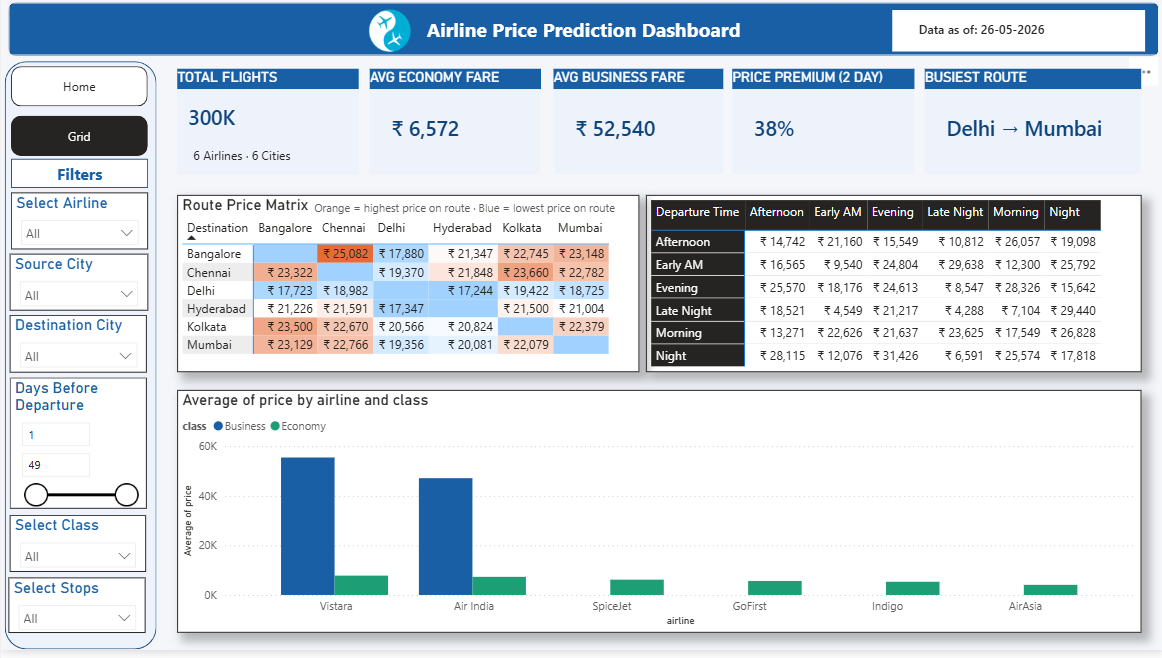

What the dashboard file says about the page in this screenshot:
{"tool":"powerbi","page":{"name":"Grid","canvas":[1280,720],"ordinal":1},"visuals":[{"type":"shape","box":[3.7,72.1,166.7,645.6],"z":0},{"type":"pivotTable","fields":{"Rows":["Clean_Dataset.departure_time"],"Columns":["Clean_Dataset.arrival_time"],"Values":["Avg(Clean_Dataset.price)"]},"box":[707.8,220.2,543.6,194.1],"z":1000},{"type":"pivotTable","title":"Route Price Matrix","fields":{"Rows":["Clean_Dataset.destination_city"],"Values":["Avg(Clean_Dataset.price)"],"Columns":["Clean_Dataset.source_city"]},"box":[192.8,220.2,507.5,194.1],"z":2000},{"type":"clusteredColumnChart","fields":{"Category":["Clean_Dataset.airline"],"Series":["Clean_Dataset.class"],"Y":["Avg(Clean_Dataset.price)"]},"box":[192.8,434.1,1058.6,266.2],"z":3000},{"type":"slicer","title":"Select Airline","fields":{"Values":["Clean_Dataset.airline"]},"box":[11.2,216.4,150.5,62.2],"z":4000},{"type":"slicer","title":"Select Class","fields":{"Values":["Clean_Dataset.class"]},"box":[10,571,149.3,62.2],"z":5000},{"type":"slicer","title":"Source City","fields":{"Values":["Clean_Dataset.source_city"]},"box":[10,283.6,151.8,62.2],"z":6000},{"type":"slicer","title":"Destination City","fields":{"Values":["Clean_Dataset.destination_city"]},"box":[10,350.8,150.5,63.4],"z":7000},{"type":"slicer","title":"Days Before Departure","fields":{"Values":["Clean_Dataset.days_left"]},"box":[10,420.5,150.5,144.3],"z":8000},{"type":"slicer","title":"Select Stops","fields":{"Values":["Clean_Dataset.stops"]},"box":[8.7,639.4,150.5,61],"z":9000},{"type":"shape","box":[11.2,180.4,150.5,32],"z":10000},{"type":"shape","box":[8.6,8.6,1262.9,58.6],"z":11000},{"type":"pageNavigator","box":[11.2,78.4,150.5,98.3],"z":12000},{"type":"textbox","box":[338.7,219.6,362,28.2],"z":13000},{"type":"cardVisual","title":"TOTAL FLIGHTS","fields":{"Data":["All Measures.Total Flights"]},"box":[192.8,80.9,199,115.7],"z":14000},{"type":"textbox","box":[201.5,161.7,125.6,29.9],"z":15000},{"type":"cardVisual","title":"AVG ECONOMY FARE","fields":{"Data":["All Measures.Avg Economy Fare"]},"box":[404.3,80.9,187.8,115.7],"z":16000},{"type":"cardVisual","title":"AVG BUSINESS FARE","fields":{"Data":["All Measures.Avg Business Fare"]},"box":[607.1,80.9,186.6,115.7],"z":17000},{"type":"cardVisual","title":"PRICE PREMIUM (2 DAY)","fields":{"Data":["All Measures.Last Minute Premium"]},"box":[802.4,80.9,200.3,115.7],"z":18000},{"type":"cardVisual","title":"BUSIEST ROUTE","fields":{"Data":["All Measures.Busiest Route"]},"box":[1013.8,80.9,237.6,115.7],"z":19000},{"type":"cardVisual","fields":{"Data":["All Measures.Last Refresh"]},"box":[977.9,16,277.3,45.4],"z":20000},{"type":"image","box":[391.4,14.7,71.2,47.9],"z":21000}]}

Visuals, with their boxes in screenshot pixels (x1, y1, x2, y2), scaled from the page's 1280x720 canvas onto the 1162x658 screenshot:
shape: [3, 66, 155, 656]
pivotTable - Clean_Dataset.departure_time x Clean_Dataset.arrival_time: [643, 201, 1136, 379]
"Route Price Matrix" pivotTable: [175, 201, 636, 379]
clusteredColumnChart - Clean_Dataset.airline x Clean_Dataset.class: [175, 397, 1136, 640]
"Select Airline" slicer: [10, 198, 147, 255]
"Select Class" slicer: [9, 522, 145, 579]
"Source City" slicer: [9, 259, 147, 316]
"Destination City" slicer: [9, 321, 146, 379]
"Days Before Departure" slicer: [9, 384, 146, 516]
"Select Stops" slicer: [8, 584, 145, 640]
shape: [10, 165, 147, 194]
shape: [8, 8, 1154, 61]
pageNavigator: [10, 72, 147, 161]
textbox: [307, 201, 636, 226]
"TOTAL FLIGHTS" cardVisual: [175, 74, 356, 180]
textbox: [183, 148, 297, 175]
"AVG ECONOMY FARE" cardVisual: [367, 74, 538, 180]
"AVG BUSINESS FARE" cardVisual: [551, 74, 721, 180]
"PRICE PREMIUM (2 DAY)" cardVisual: [728, 74, 910, 180]
"BUSIEST ROUTE" cardVisual: [920, 74, 1136, 180]
cardVisual - All Measures.Last Refresh: [888, 15, 1139, 56]
image: [355, 13, 420, 57]
